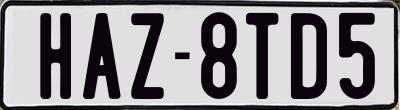5: (336, 12, 378, 99)
8: (200, 10, 241, 101)
A: (80, 11, 118, 103)
D: (289, 10, 326, 97)
H: (40, 10, 76, 98)
T: (244, 12, 278, 99)
Z: (131, 13, 166, 99)
